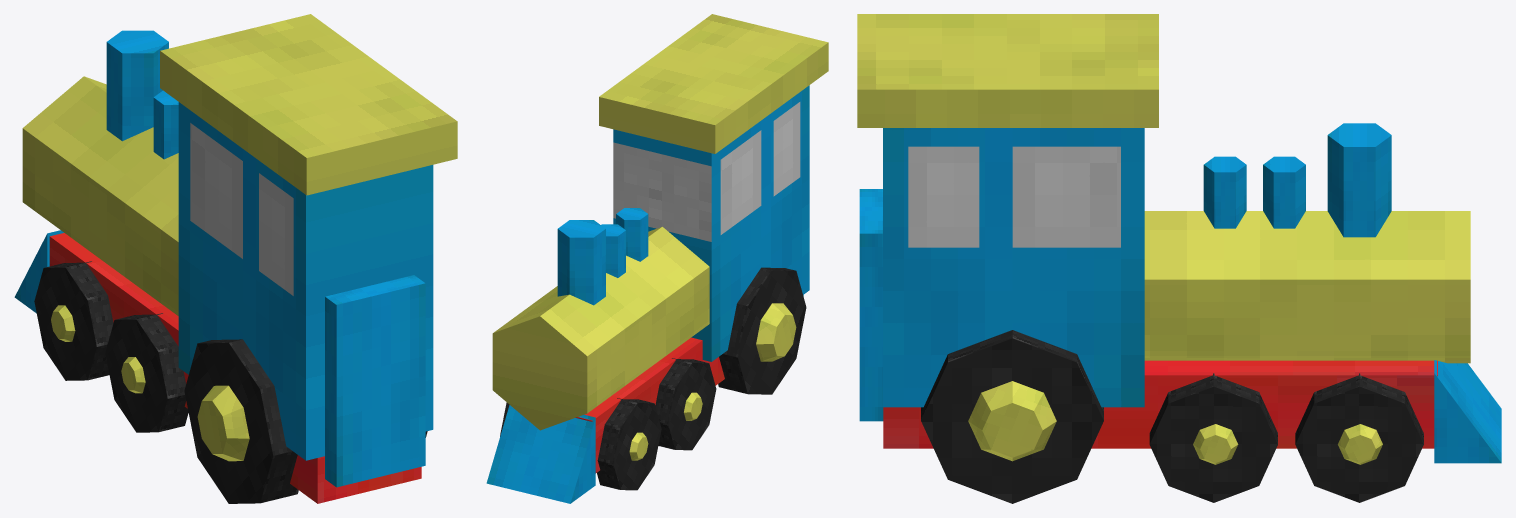
The model's file is train.dae.
3 views of the same model, side by side, from view 1: azimuth 30°, elevation 25°; view 2: azimuth 150°, elevation 25°; view 3: azimuth 270°, elevation 25° (orthographic). The views are drawn at different scales.
Visible parts, largest first — view 1: train; view 2: train; view 3: train.
Part boxes in pixels (x1,y1,x2,y2): train: (14, 14, 457, 503); train: (486, 14, 828, 503); train: (857, 14, 1501, 503).
Size of the model in its own units: 0.0953 by 0.2675 by 0.1895.
1 material, 1 textured.
